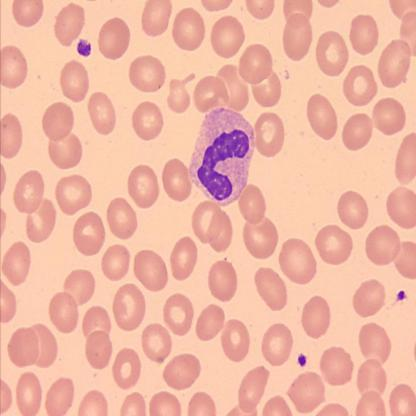Band Neutrophil: (186, 104, 258, 207)
